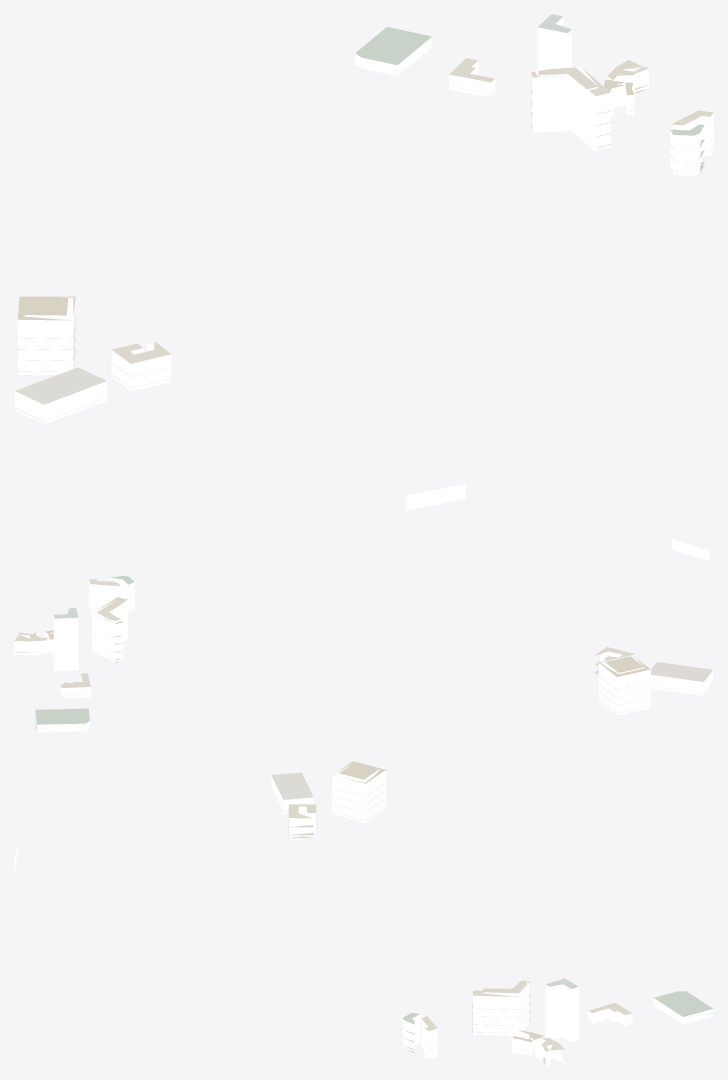
Rendered from buildings--3_2-coarse.glb.
The picture shows the model from 3 angles, top to bottom: view 1: azimuth 30°, elevation 25°; view 2: azimuth 150°, elevation 25°; view 3: azimuth 270°, elevation 25°; orthographic projection. The views are drawn at different scales.
Visible parts, largest first — view 1: block_-3_2_residential, block_-3_2_roof, block_-3_2_office; view 2: block_-3_2_residential, block_-3_2_roof, block_-3_2_office; view 3: block_-3_2_residential, block_-3_2_roof, block_-3_2_office.
Boxes of the visible parts, box(x1,y1,x2,y2) form: block_-3_2_residential: box(14, 37, 713, 510); block_-3_2_roof: box(14, 14, 713, 424); block_-3_2_office: box(537, 16, 571, 70); block_-3_2_residential: box(14, 539, 713, 732); block_-3_2_roof: box(14, 576, 713, 732); block_-3_2_office: box(53, 616, 78, 671); block_-3_2_residential: box(14, 764, 713, 1065); block_-3_2_roof: box(271, 761, 713, 1064); block_-3_2_office: box(545, 984, 578, 1042).
Size of the model in its own units: 608 by 56.91 by 643.
